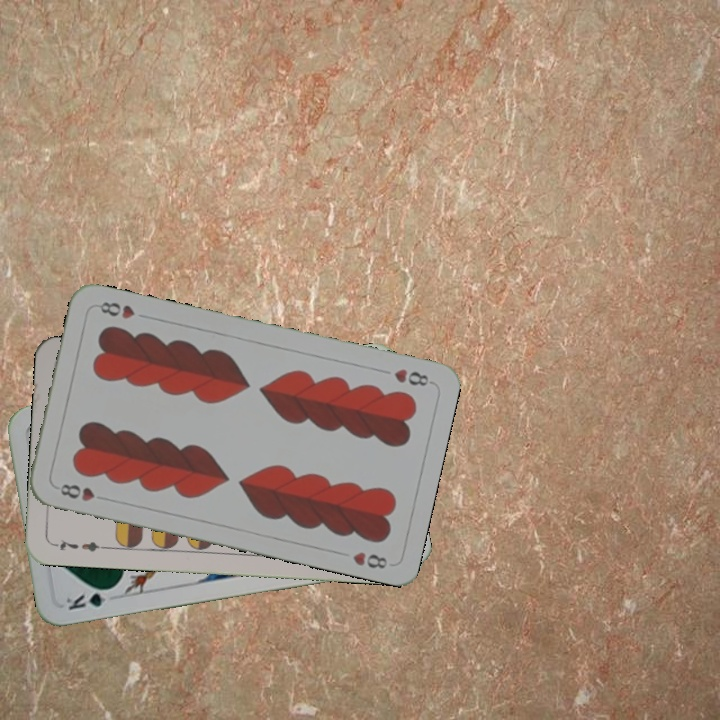E7: (49, 535, 108, 554)
GK: (62, 584, 118, 613)
H8: (56, 479, 110, 504), (390, 364, 435, 389)
